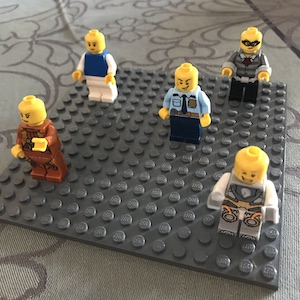Lego: (203, 143, 281, 242), (8, 93, 68, 186), (158, 60, 213, 143), (219, 26, 272, 102), (72, 27, 118, 102)
